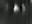person: (22, 4, 28, 17), (14, 6, 20, 14)
